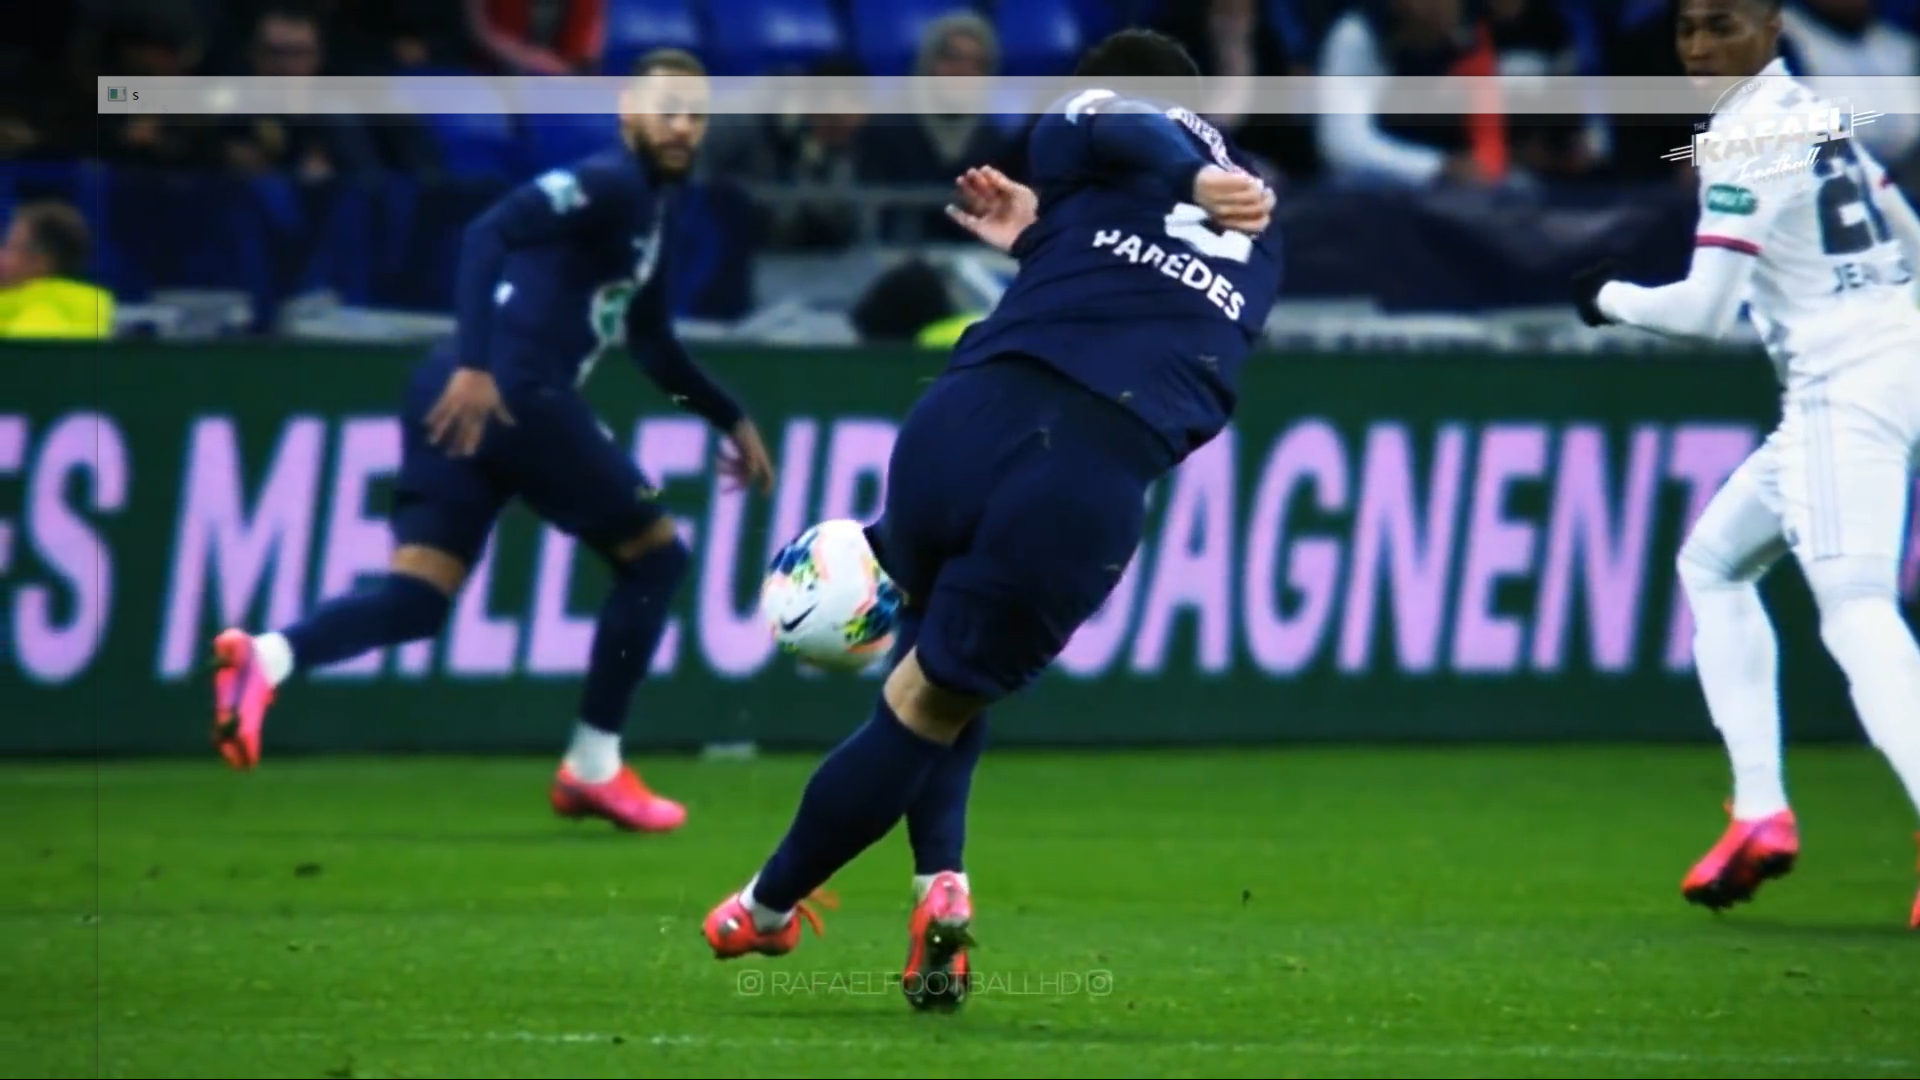ft: (764, 514, 902, 671)
